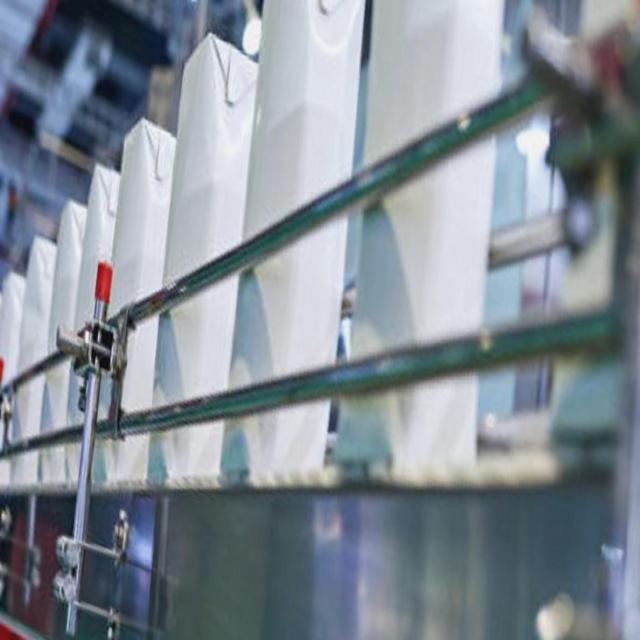food: (218, 1, 368, 483), (147, 42, 260, 484), (106, 115, 178, 438)
